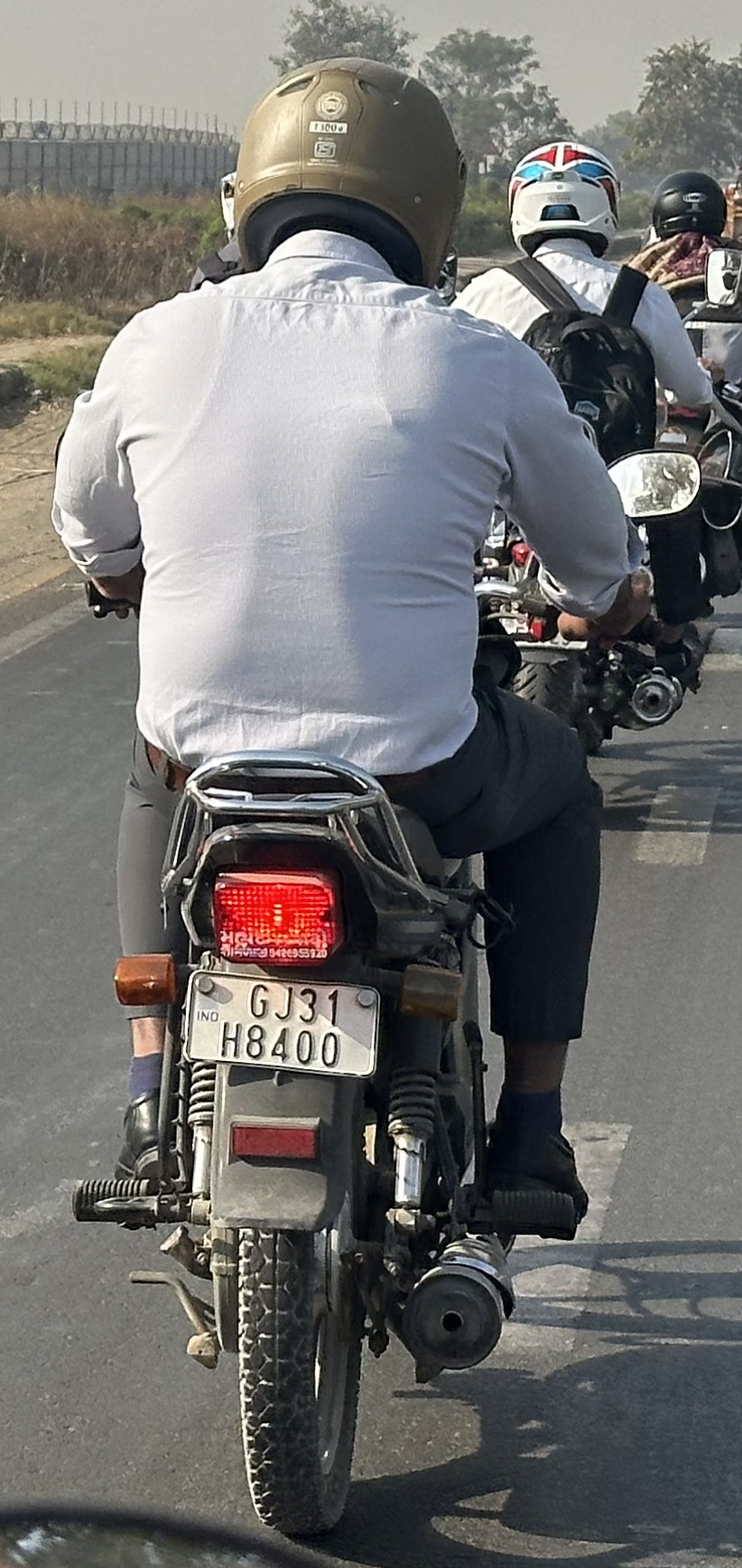BikeWithRider: (34, 45, 741, 1554), (443, 127, 742, 766)
Helmet: (209, 44, 482, 305), (491, 129, 637, 266), (642, 158, 735, 258)
